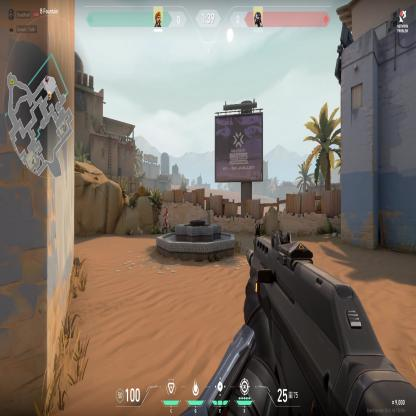enemy: (163, 206, 170, 232)
